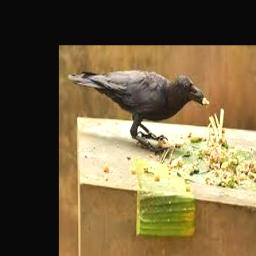Crow: (67, 70, 207, 145)
